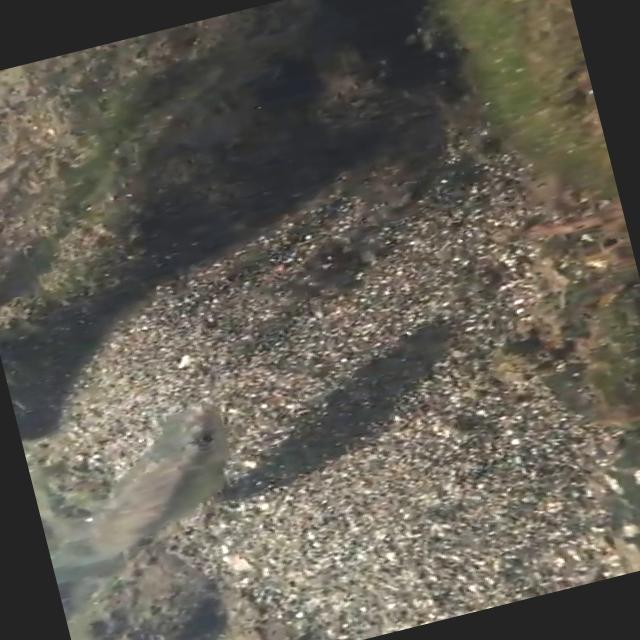Cakil Baligi: (21, 392, 254, 574)
